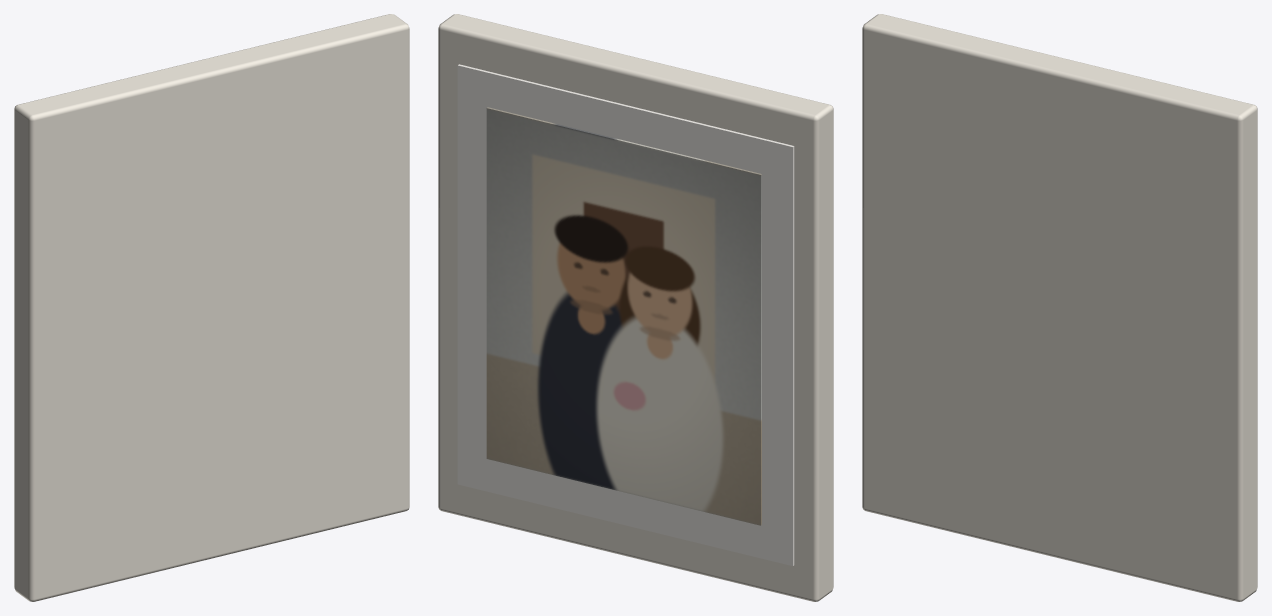
The model's file is escena.casa.foto_matrimonio.fbx.
3 views of the same model, side by side, from view 1: azimuth 30°, elevation 25°; view 2: azimuth 150°, elevation 25°; view 3: azimuth 330°, elevation 25° (orthographic).
Parts seen in each view (by area): view 1: Marco; view 2: Foto, Marco, Paspartu; view 3: Marco.
Boxes of the visible parts, x1,y1,x2,y2 form: Marco: (14,14,409,601); Foto: (486,107,761,525); Marco: (438,14,833,601); Paspartu: (457,64,794,565); Marco: (862,14,1257,601).
Size of the model in its own units: 0.36 by 0.44 by 0.035.
Materials: 3 (1 with a texture image).
